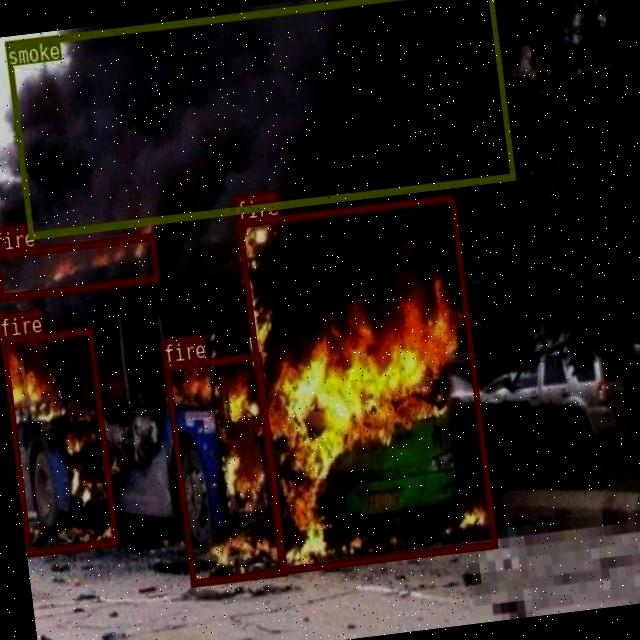fire: (236, 193, 496, 572), (164, 351, 286, 585), (0, 325, 117, 554), (0, 232, 158, 299)
smoke: (3, 0, 514, 237)
